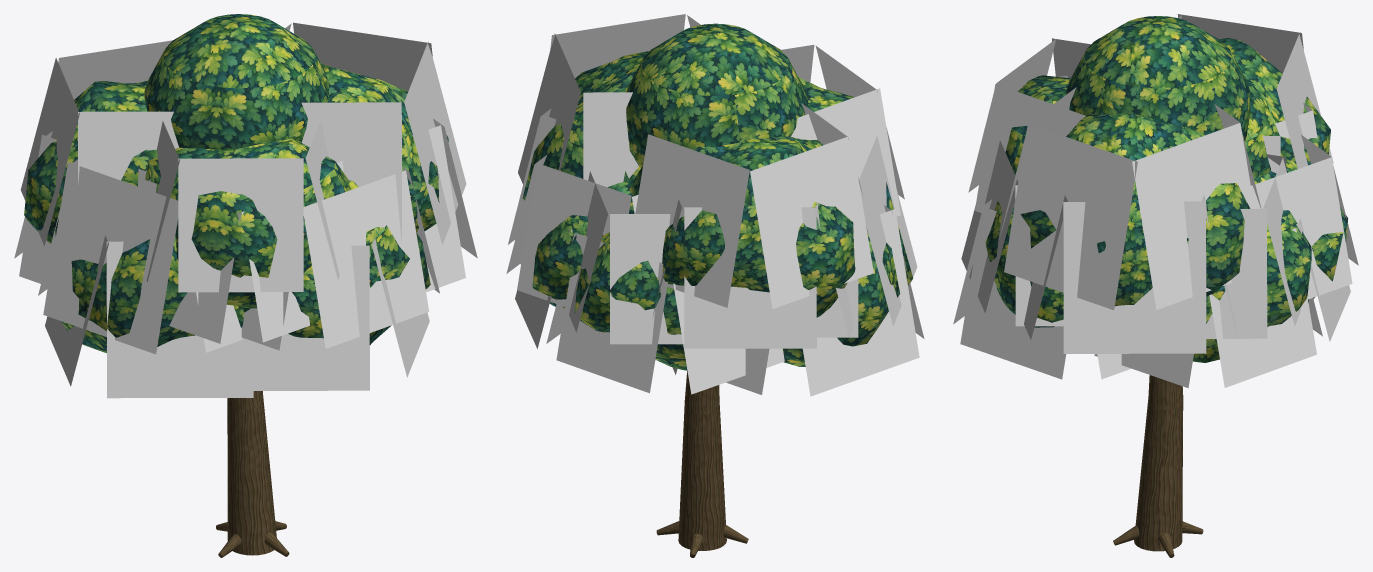
The model's file is NaturalTree_06.fbx.
3 views of the same model, side by side, from view 1: azimuth 30°, elevation 25°; view 2: azimuth 150°, elevation 25°; view 3: azimuth 270°, elevation 25° (orthographic). The views are drawn at different scales.
Visible parts, largest first — view 1: NaturalTree_06.001; view 2: NaturalTree_06.001; view 3: NaturalTree_06.001.
Boxes of the visible parts, x1,y1,x2,y2 form: NaturalTree_06.001: (14,14,477,557); NaturalTree_06.001: (506,14,924,557); NaturalTree_06.001: (953,14,1358,557).
Size of the model in its own units: 584 by 744 by 537.
Materials: 3 (2 with a texture image).
